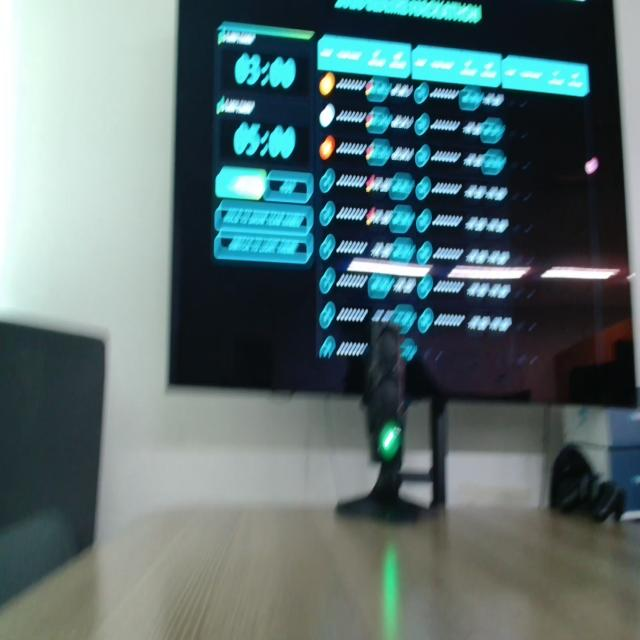green_light: (379, 421, 401, 461)
